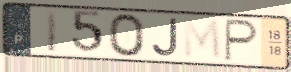5: (70, 10, 106, 58)
I: (44, 9, 60, 54)
J: (150, 17, 180, 59)
M: (182, 17, 224, 62)
O: (106, 12, 147, 59)
P: (223, 17, 260, 64)
